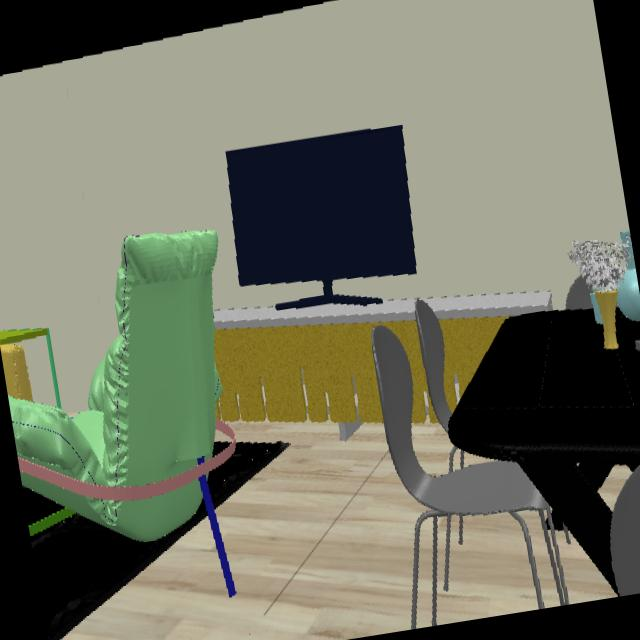chair: (372, 326, 552, 515), (415, 301, 458, 431), (609, 466, 640, 596)
monitor: (224, 126, 419, 290)
sofa: (9, 233, 234, 544)
table: (447, 310, 640, 587)
